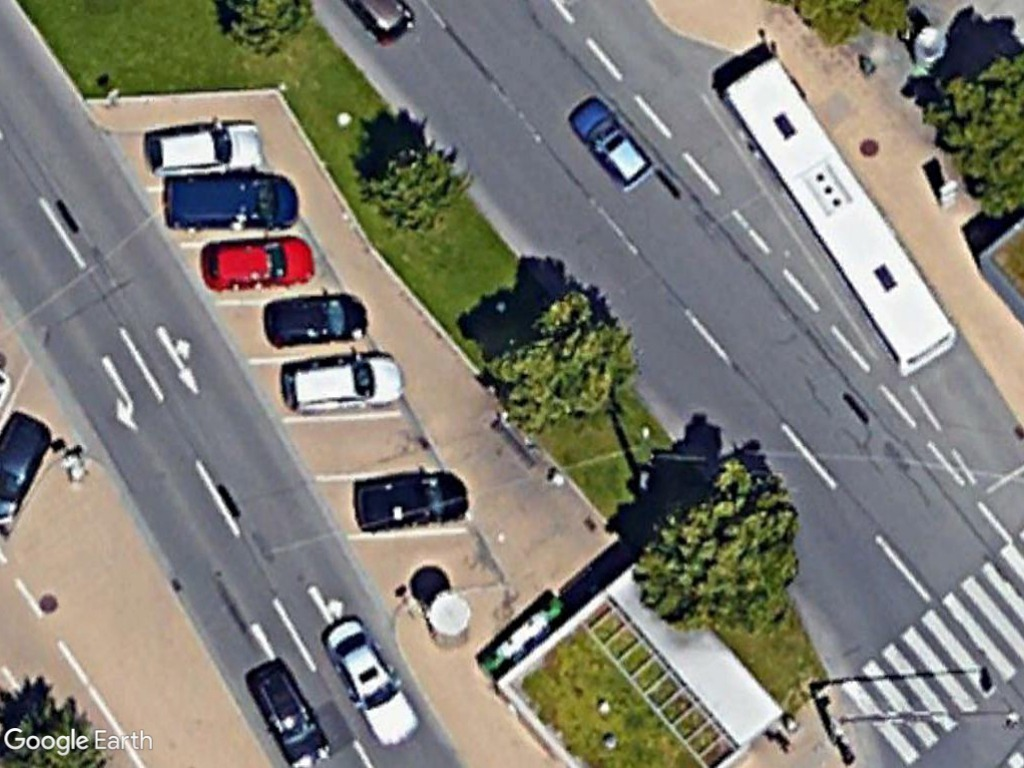bus: (717, 55, 962, 378)
car: (319, 614, 422, 749), (242, 658, 333, 768), (565, 93, 657, 195), (277, 353, 410, 417), (141, 115, 265, 181), (352, 467, 471, 535), (197, 232, 317, 297), (259, 290, 373, 353)
van: (156, 166, 299, 235)
